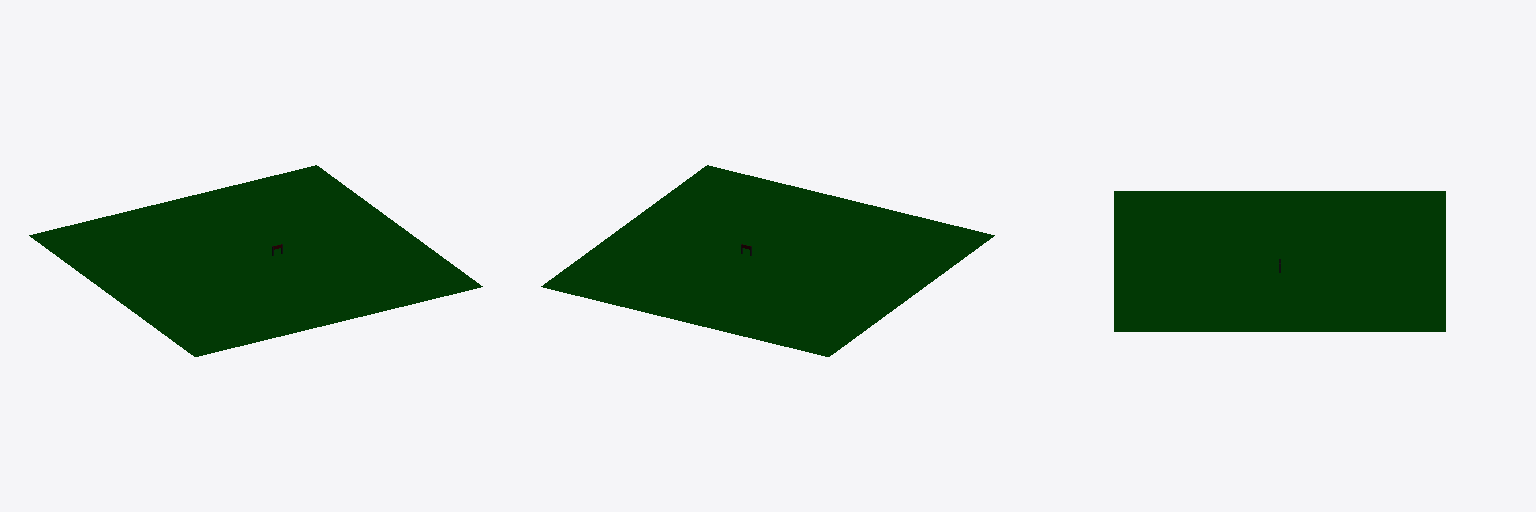
File: stage.obj
The picture shows the model from 3 angles: view 1: azimuth 30°, elevation 25°; view 2: azimuth 150°, elevation 25°; view 3: azimuth 270°, elevation 25°; orthographic projection.
Parts seen in each view (by area): view 1: Plane_Plane.002; view 2: Plane_Plane.002; view 3: Plane_Plane.002.
Boxes of the visible parts, <box> form: Plane_Plane.002: <box>29,165,482,356</box>; Plane_Plane.002: <box>541,165,994,356</box>; Plane_Plane.002: <box>1114,191,1445,331</box>.
Size of the model in its own units: 1954 by 67.94 by 1954.